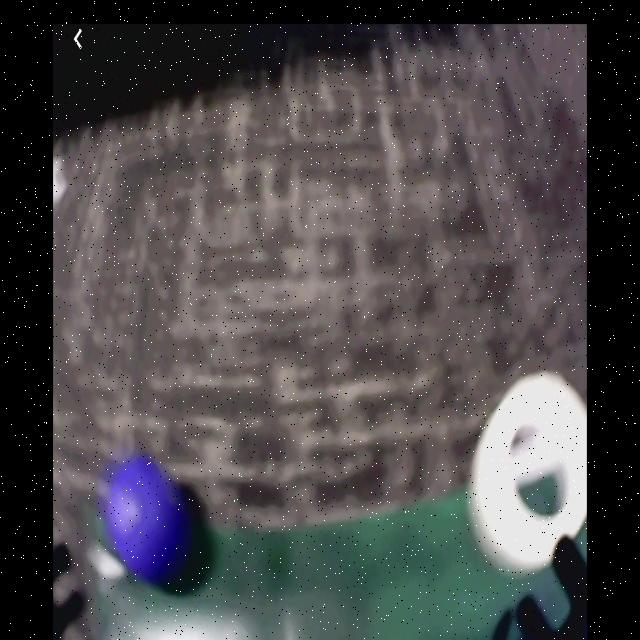ball: (107, 451, 181, 576)
